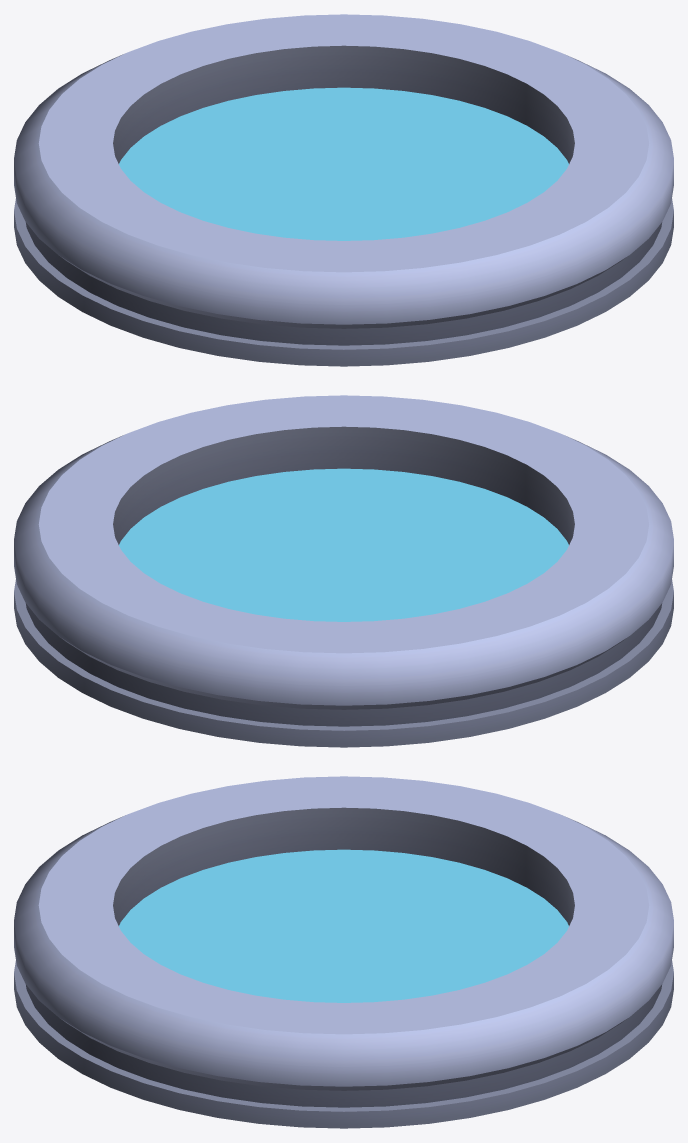
File: fontan.glb
3 views of the same model, one above another, from view 1: azimuth 30°, elevation 25°; view 2: azimuth 150°, elevation 25°; view 3: azimuth 270°, elevation 25° (orthographic).
Visible parts, largest first — view 1: fountain-round, (%ignore); view 2: fountain-round, (%ignore); view 3: fountain-round, (%ignore).
Part boxes in pixels (<box>): fountain-round: <box>14,14,673,366</box>; (%ignore): <box>119,87,568,240</box>; fountain-round: <box>14,395,673,747</box>; (%ignore): <box>119,468,568,621</box>; fountain-round: <box>14,776,673,1128</box>; (%ignore): <box>119,849,568,1002</box>.
Bounding box in the file's own units: 2 × 0.28 × 2.
2 materials, 1 textured.
